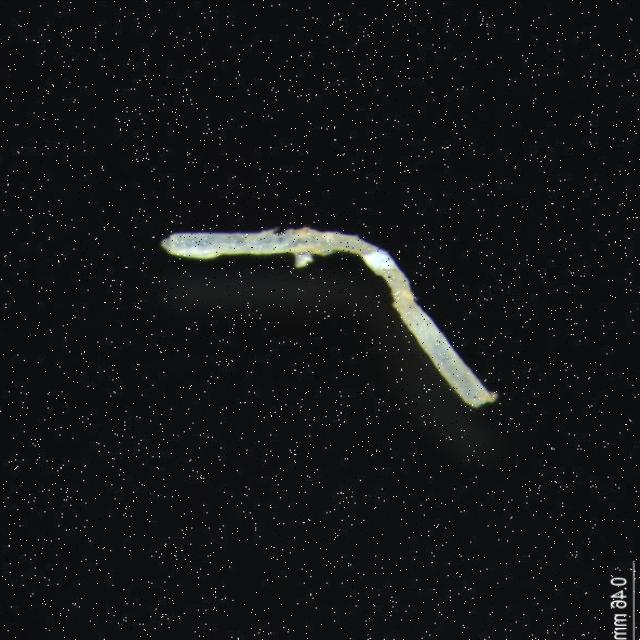Fibre: (158, 220, 504, 418)
